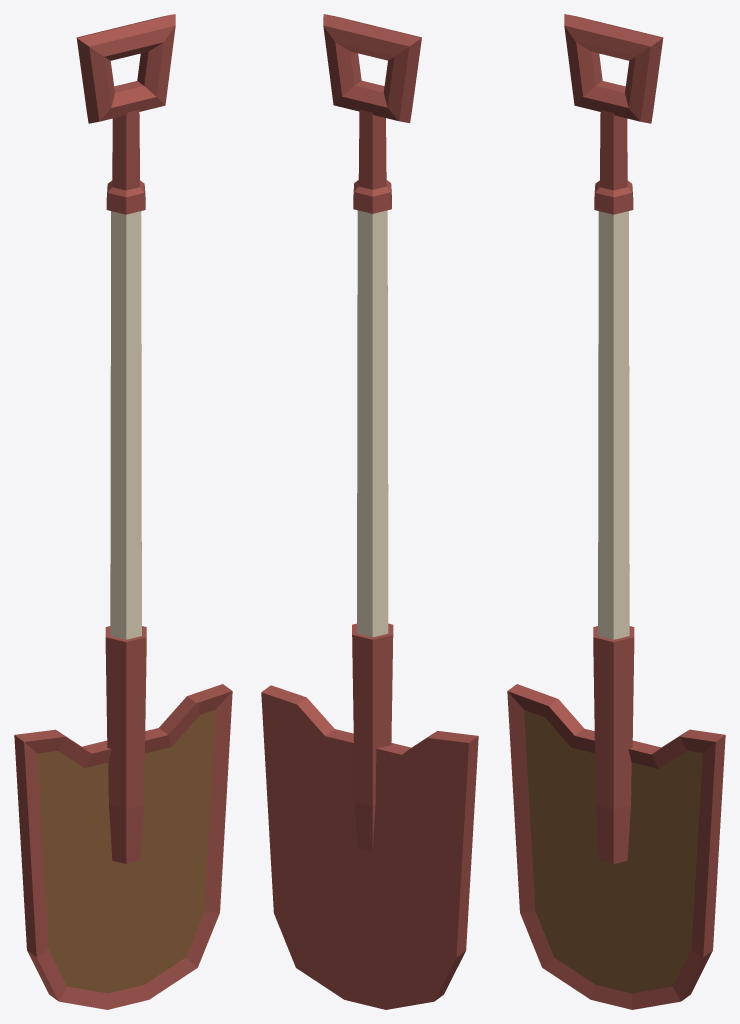
The model's file is shovel_a.gltf.
3 views of the same model, side by side, from view 1: azimuth 30°, elevation 25°; view 2: azimuth 150°, elevation 25°; view 3: azimuth 330°, elevation 25° (orthographic).
Visible parts, largest first — view 1: shovel_a001; view 2: shovel_a001; view 3: shovel_a001.
Part boxes in pixels (left/top/right/bottom): shovel_a001: left=14, top=14, right=232, bottom=1009; shovel_a001: left=261, top=14, right=478, bottom=1009; shovel_a001: left=507, top=14, right=725, bottom=1009.
Size of the model in its own units: 0.3 by 1.34 by 0.0514.
Materials: 1 (1 with a texture image).
